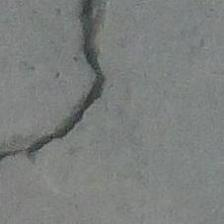Crack: (0, 0, 153, 165)
